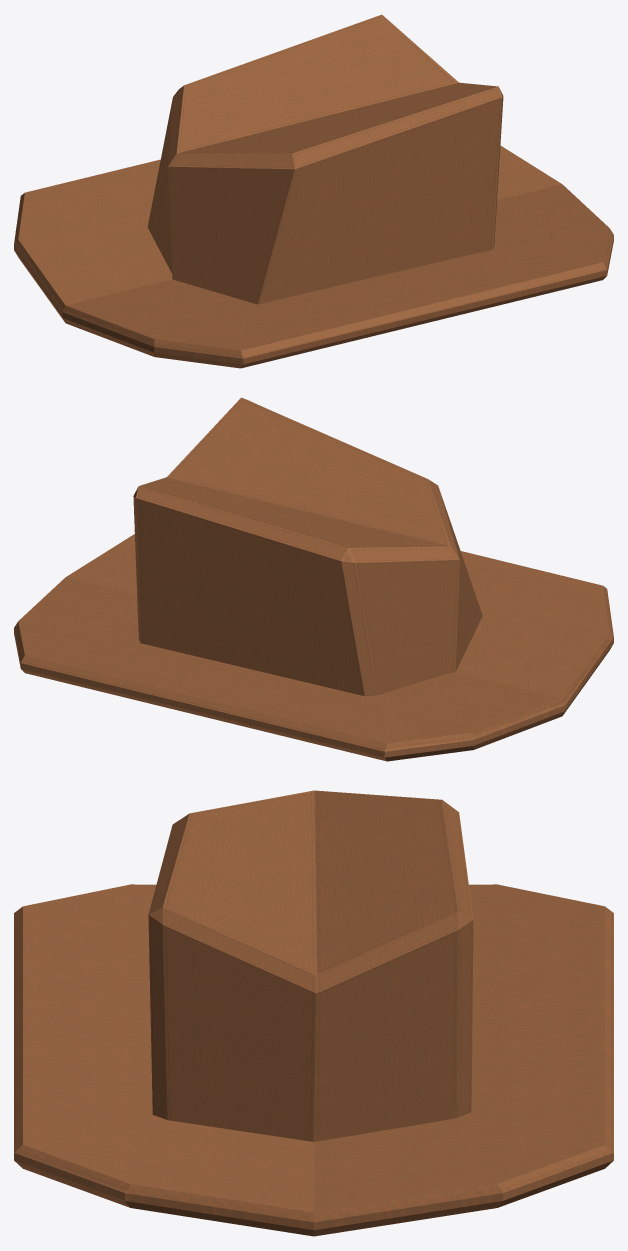
The model's file is Hat.fbx.
The picture shows the model from 3 angles, top to bottom: view 1: azimuth 30°, elevation 25°; view 2: azimuth 150°, elevation 25°; view 3: azimuth 270°, elevation 25°; orthographic projection. The views are drawn at different scales.
Parts seen in each view (by area): view 1: Cube; view 2: Cube; view 3: Cube.
Boxes of the visible parts, x1=… form: Cube: x1=14, y1=14, x2=613, y2=368; Cube: x1=14, y1=397, x2=613, y2=761; Cube: x1=14, y1=790, x2=613, y2=1236.
Bounding box in the file's own units: 148 × 52.16 × 113.
